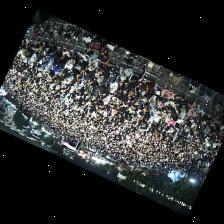person: (128, 64, 146, 85), (63, 51, 77, 71), (141, 79, 155, 94), (68, 63, 80, 80), (160, 88, 174, 101), (42, 49, 56, 62), (99, 61, 112, 74), (119, 66, 131, 79), (48, 61, 60, 73), (76, 67, 85, 83), (173, 94, 184, 107), (44, 43, 57, 54), (96, 71, 109, 81), (85, 65, 95, 78), (78, 53, 88, 66), (109, 78, 118, 92), (133, 83, 142, 97), (54, 64, 63, 78), (151, 110, 159, 125), (210, 115, 219, 128), (62, 45, 70, 59), (177, 108, 185, 122), (94, 84, 104, 95), (203, 112, 212, 124), (165, 97, 174, 109), (88, 57, 97, 69), (123, 82, 132, 94), (149, 93, 158, 105), (102, 82, 109, 97), (45, 55, 53, 68), (149, 102, 157, 115), (97, 76, 107, 86), (118, 76, 127, 87), (165, 105, 174, 116), (112, 64, 119, 78), (196, 105, 203, 119), (187, 108, 195, 120), (168, 116, 175, 129), (119, 94, 128, 104), (28, 53, 36, 63), (158, 95, 165, 106), (32, 40, 40, 49), (108, 70, 114, 82), (154, 85, 162, 94), (161, 110, 167, 121), (103, 94, 110, 103), (141, 89, 146, 100), (175, 104, 181, 113), (116, 86, 122, 95), (28, 39, 34, 47), (101, 38, 108, 44), (25, 38, 29, 46)
